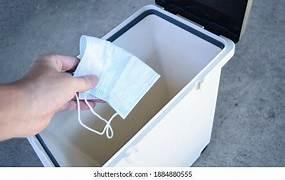Mask: (74, 36, 159, 137)
